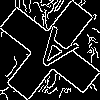A: (24, 24, 80, 82)
